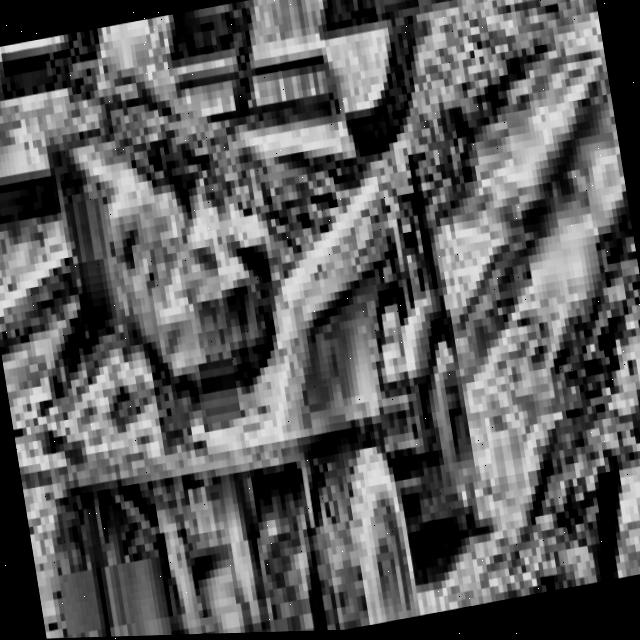dump_truck: (0, 4, 568, 640)
